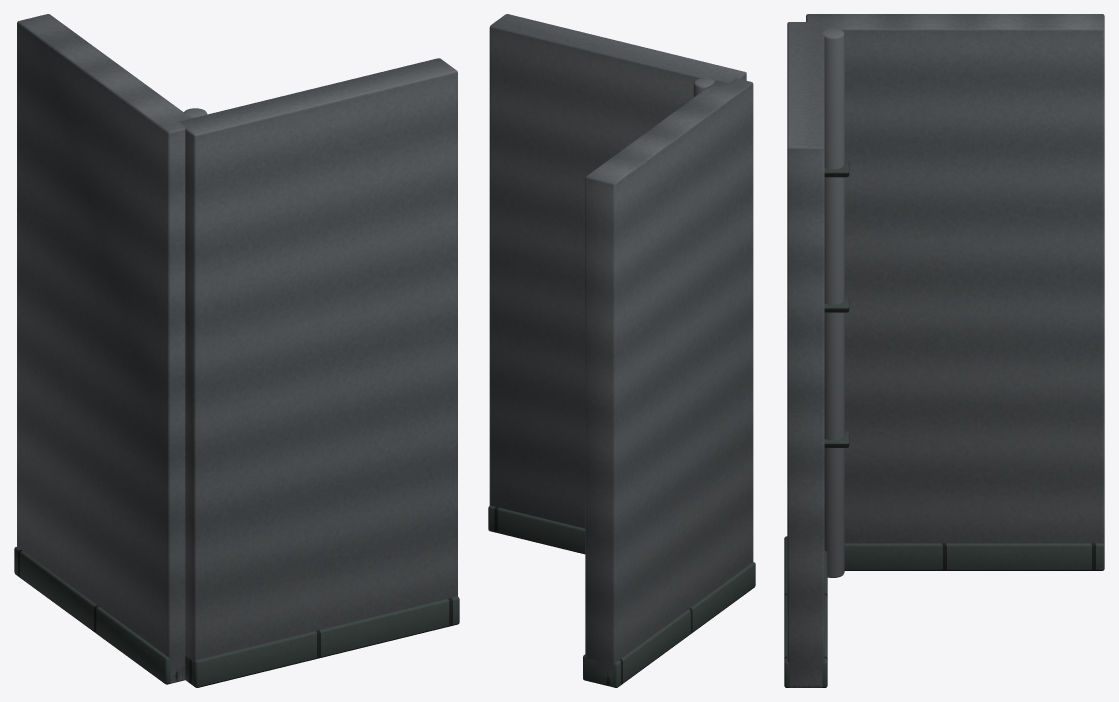
File: WK_WALL_CORNER_IN_A_01.glb
3 views of the same model, side by side, from view 1: azimuth 30°, elevation 25°; view 2: azimuth 150°, elevation 25°; view 3: azimuth 270°, elevation 25° (orthographic). The views are drawn at different scales.
Parts seen in each view (by area): view 1: WK_WALL_CORNER_IN_A_01; view 2: WK_WALL_CORNER_IN_A_01; view 3: WK_WALL_CORNER_IN_A_01.
Part boxes in pixels (bbox=[...]): WK_WALL_CORNER_IN_A_01: bbox=[14, 14, 459, 687]; WK_WALL_CORNER_IN_A_01: bbox=[488, 14, 755, 687]; WK_WALL_CORNER_IN_A_01: bbox=[784, 14, 1104, 687].
Size of the model in its own units: 2.14 by 4 by 2.14.
Materials: 3 (2 with a texture image).
